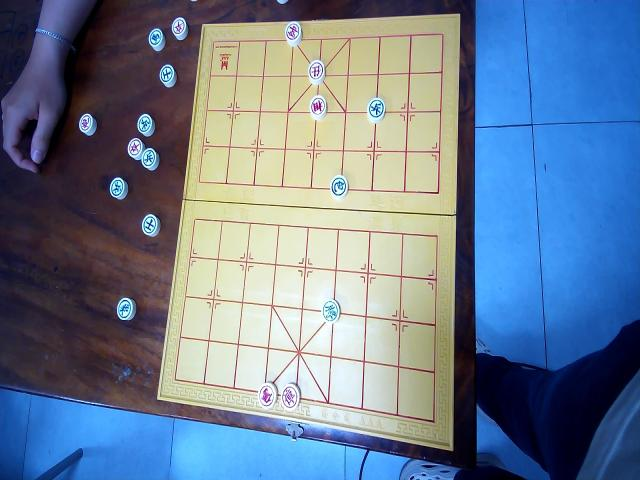piece: (280, 382, 300, 411), (258, 381, 278, 409), (366, 96, 386, 122), (115, 296, 135, 320), (307, 58, 325, 84), (309, 94, 327, 120), (142, 212, 160, 237), (78, 113, 97, 136), (136, 113, 154, 137), (330, 174, 348, 198), (140, 146, 158, 170), (284, 20, 301, 45), (171, 16, 188, 41), (322, 298, 339, 322), (109, 177, 127, 199), (127, 136, 144, 159), (159, 63, 176, 86), (148, 27, 164, 51), (275, 0, 289, 4)
